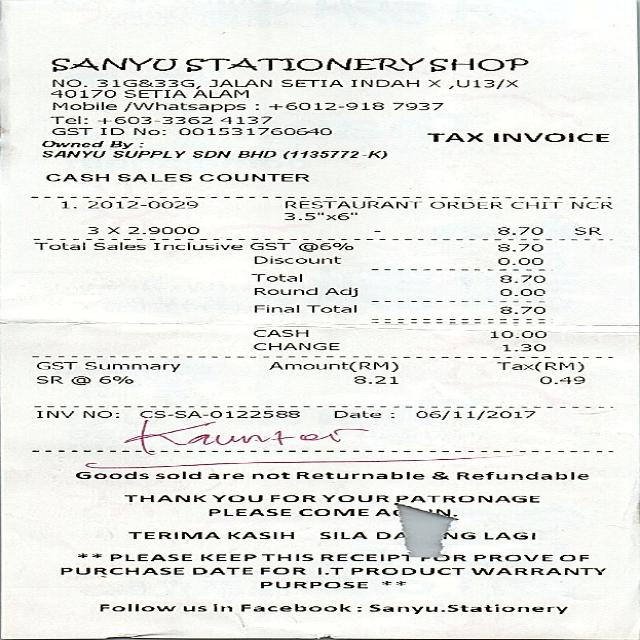text: (183, 57, 421, 71), (368, 603, 566, 613), (49, 57, 176, 71), (138, 409, 298, 418), (266, 361, 396, 372), (429, 57, 526, 71), (123, 102, 245, 112), (125, 531, 291, 538), (393, 494, 538, 502), (283, 200, 419, 208), (82, 361, 179, 372), (178, 127, 330, 134), (454, 471, 586, 479), (97, 78, 199, 88), (58, 566, 180, 574), (414, 410, 534, 418), (238, 604, 358, 612), (266, 102, 381, 110), (492, 132, 606, 140), (294, 471, 422, 478), (85, 200, 195, 208), (198, 172, 307, 180), (495, 361, 582, 371), (282, 150, 384, 158), (468, 567, 602, 573), (254, 304, 354, 312), (259, 580, 366, 587), (317, 553, 406, 561), (94, 116, 210, 122), (153, 241, 240, 249), (447, 78, 516, 88), (318, 531, 404, 539), (348, 567, 462, 573), (440, 532, 533, 539), (208, 507, 288, 515), (252, 255, 338, 262), (252, 342, 337, 349), (115, 172, 189, 180), (73, 470, 146, 478), (428, 200, 500, 208), (284, 211, 356, 219), (123, 494, 205, 501), (51, 101, 114, 110), (108, 553, 189, 560), (296, 507, 366, 515), (98, 603, 174, 610), (110, 150, 183, 157), (44, 172, 107, 180), (252, 286, 314, 294), (126, 226, 196, 233), (190, 566, 250, 574), (348, 79, 416, 86), (320, 494, 388, 501), (472, 554, 550, 560), (48, 89, 113, 96), (424, 132, 480, 140), (40, 150, 104, 157), (489, 330, 544, 338), (198, 553, 253, 561), (207, 79, 269, 86), (278, 79, 340, 86), (121, 89, 183, 96), (40, 139, 102, 146), (297, 242, 351, 250), (332, 409, 379, 418), (92, 241, 144, 249), (259, 553, 311, 561), (219, 115, 270, 123), (510, 200, 561, 208), (251, 273, 302, 281), (352, 374, 396, 383), (190, 89, 246, 96), (154, 470, 199, 478), (259, 566, 304, 574), (496, 243, 540, 251), (496, 256, 540, 264), (498, 274, 542, 282), (498, 306, 542, 314), (392, 102, 442, 109), (212, 494, 261, 501), (35, 409, 73, 418), (540, 375, 582, 383), (252, 329, 306, 335), (96, 374, 132, 383), (417, 554, 463, 561), (324, 286, 356, 296), (269, 494, 314, 501), (571, 200, 610, 208), (496, 226, 540, 233), (498, 288, 542, 295), (32, 242, 82, 248), (80, 410, 117, 418), (502, 343, 544, 350), (50, 115, 86, 123), (250, 470, 286, 478), (35, 361, 76, 368), (107, 140, 142, 148), (248, 242, 288, 249), (51, 127, 90, 134), (51, 78, 85, 86), (191, 150, 229, 157), (237, 150, 274, 157), (425, 508, 455, 516), (36, 374, 61, 383), (132, 127, 164, 134), (206, 472, 242, 478), (316, 566, 341, 574), (572, 226, 598, 233), (372, 508, 398, 515), (70, 375, 88, 384), (559, 554, 586, 560), (98, 127, 121, 134), (59, 200, 75, 208), (430, 471, 446, 479), (211, 603, 229, 610), (182, 605, 204, 610), (426, 79, 439, 86), (107, 226, 118, 233), (85, 226, 96, 233)
